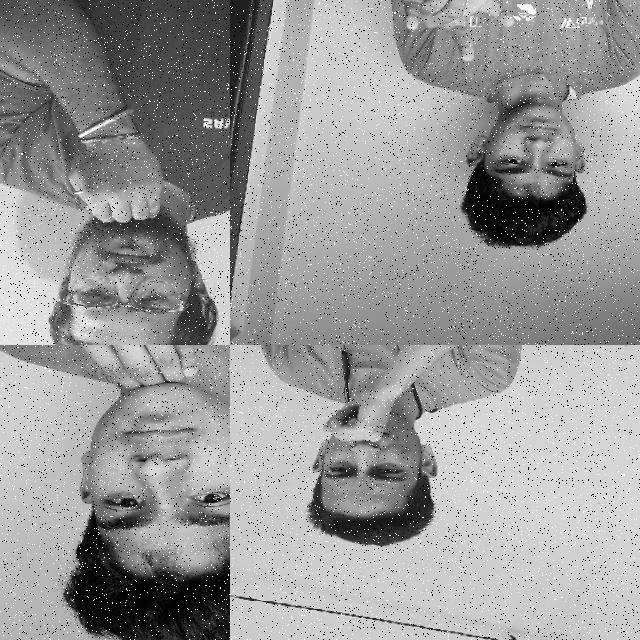Chin Flick: (32, 345, 230, 640), (44, 141, 209, 345)
Corna: (401, 0, 511, 67)
Fist Mouth: (296, 362, 466, 559)
